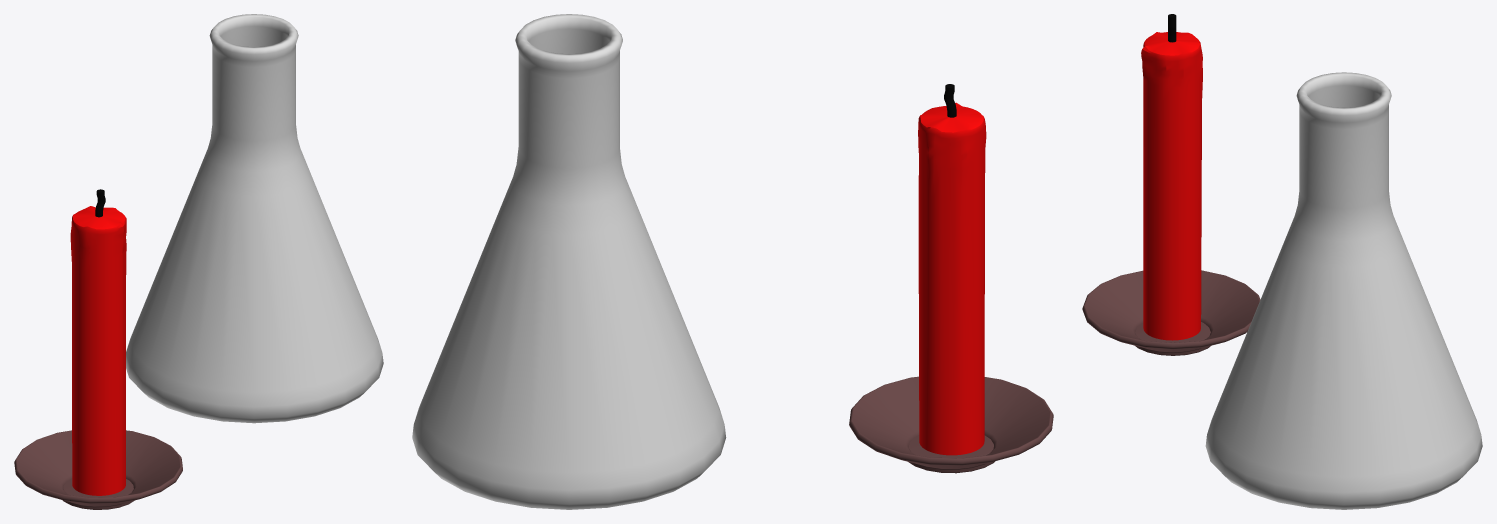
File: Probeta.fbx
The picture shows the model from 3 angles, left to right: view 1: azimuth 30°, elevation 25°; view 2: azimuth 150°, elevation 25°; view 3: azimuth 270°, elevation 25°; orthographic projection. The views are drawn at different scales.
Parts seen in each view (by area): view 1: Binh_tam_giac, Than_nen, Day_nen; view 2: Binh_tam_giac, Than_nen, Day_nen; view 3: Binh_tam_giac, Than_nen, Day_nen.
Boxes of the visible parts, left/top/right/bottom form: Binh_tam_giac: left=126, top=14, right=383, bottom=423; Than_nen: left=70, top=206, right=126, bottom=495; Day_nen: left=14, top=430, right=182, bottom=509; Binh_tam_giac: left=412, top=14, right=726, bottom=509; Than_nen: left=918, top=102, right=986, bottom=455; Day_nen: left=849, top=376, right=1053, bottom=473; Binh_tam_giac: left=1205, top=72, right=1482, bottom=509; Than_nen: left=1141, top=32, right=1202, bottom=340; Day_nen: left=1082, top=270, right=1260, bottom=355.
Bounding box in the file's own units: 3.15 × 2.47 × 2.43.
